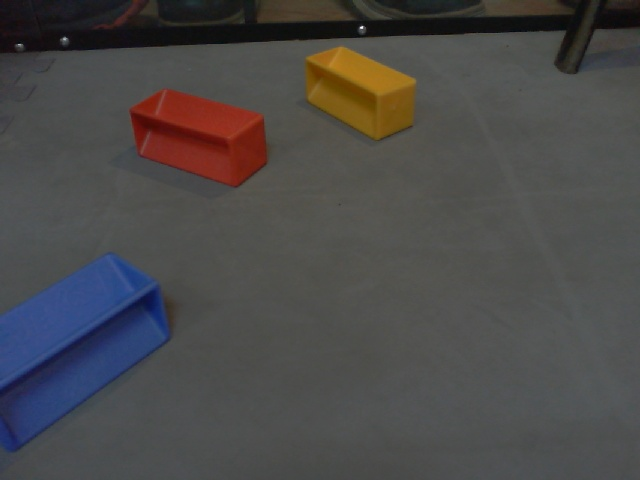BlueSample: (1, 250, 171, 455)
RedSample: (128, 88, 270, 188)
YellowSample: (302, 45, 419, 143)
